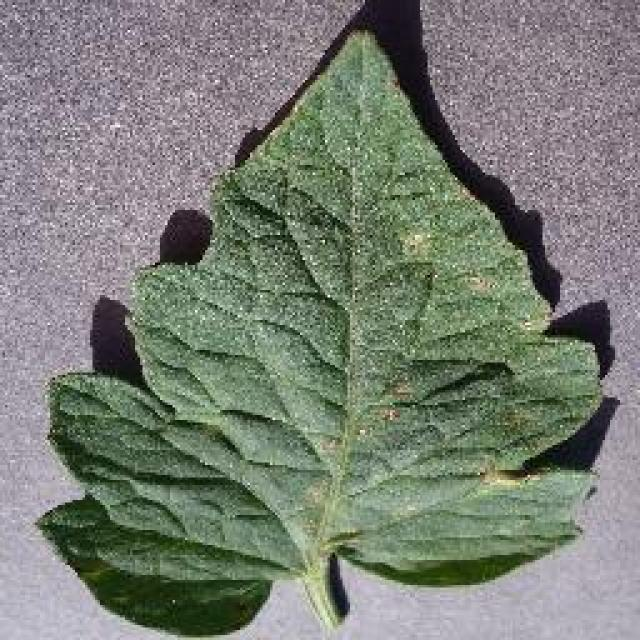Tomato___Target_Spot: (38, 25, 598, 635)
